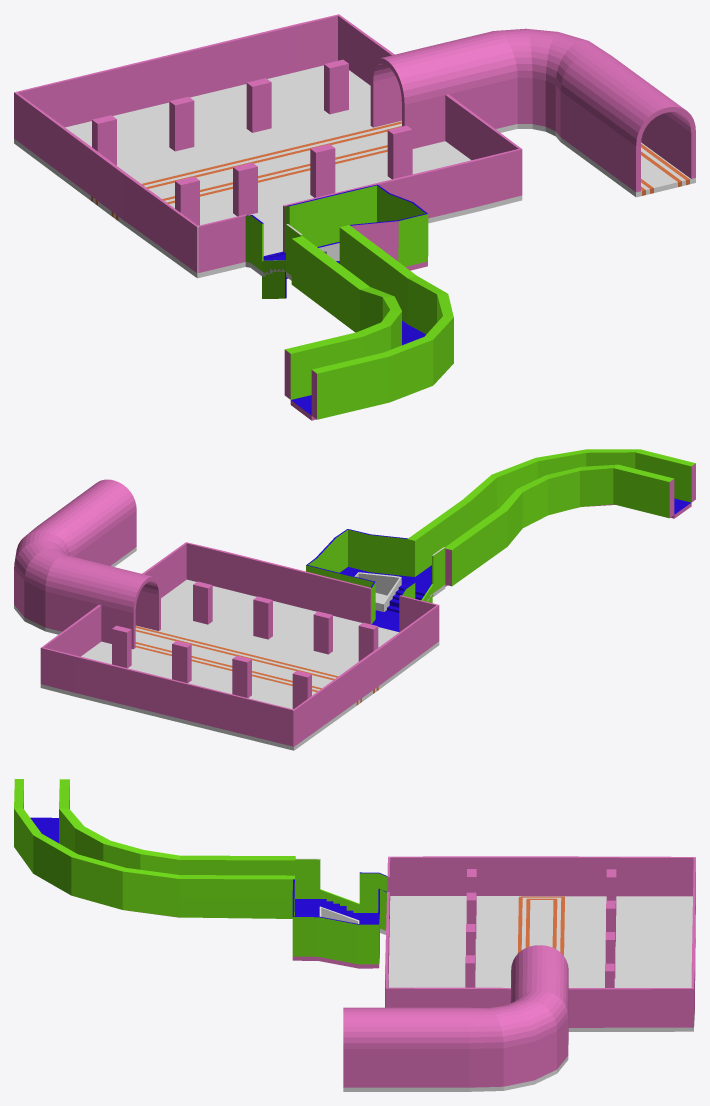
The model's file is Level2.fbx.
3 renders of one model, top to bottom at view 1: azimuth 30°, elevation 25°; view 2: azimuth 150°, elevation 25°; view 3: azimuth 270°, elevation 25°, orthographic. The views are drawn at different scales.
Visible parts, largest first — view 1: Cube.001; view 2: Cube.001; view 3: Cube.001.
Boxes of the visible parts, x1,y1,x2,y2 form: Cube.001: (14, 14, 695, 420); Cube.001: (14, 449, 695, 750); Cube.001: (14, 779, 695, 1091).
Size of the model in its own units: 2402 by 452 by 2949.
